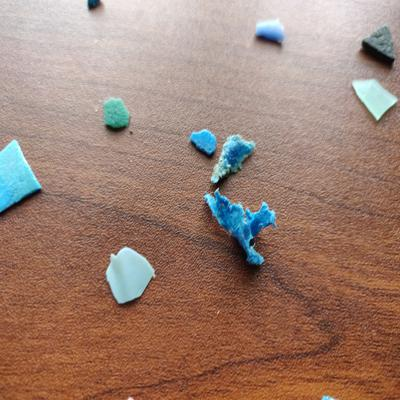plastic: (199, 187, 288, 271), (1, 136, 45, 222), (103, 244, 158, 310), (203, 130, 263, 185), (349, 74, 400, 123), (359, 22, 400, 67), (93, 94, 137, 134), (248, 10, 291, 49), (187, 123, 219, 159)
